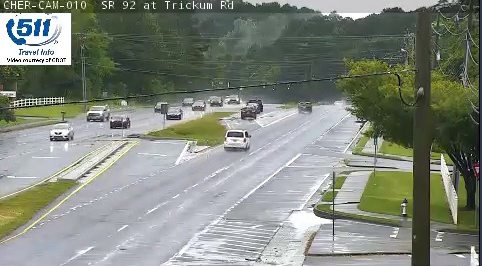car: (224, 130, 248, 148), (240, 107, 257, 119)
